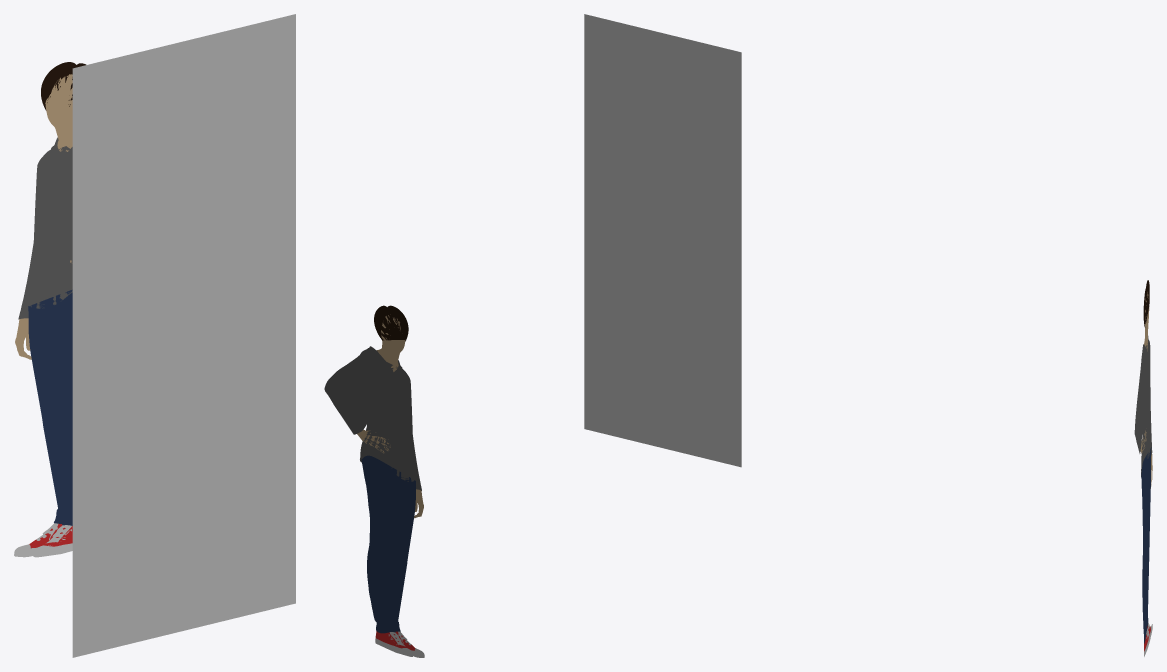
3 renders of one model, left to right at view 1: azimuth 30°, elevation 25°; view 2: azimuth 150°, elevation 25°; view 3: azimuth 270°, elevation 25°, orthographic. The views are drawn at different scales.
Parts seen in each view (by area): view 1: Mesh2 Model, Mesh1 Stacy1 Model; view 2: Mesh2 Model, Mesh1 Stacy1 Model; view 3: Mesh1 Stacy1 Model.
Part boxes in pixels (left/top/right/bottom): Mesh2 Model: left=72, top=14, right=295, bottom=657; Mesh1 Stacy1 Model: left=14, top=62, right=86, bottom=557; Mesh2 Model: left=584, top=14, right=741, bottom=467; Mesh1 Stacy1 Model: left=324, top=305, right=424, bottom=657; Mesh1 Stacy1 Model: left=1134, top=280, right=1152, bottom=656.
Bounding box in the file's own units: 1.24 × 2.47 × 1.56.
